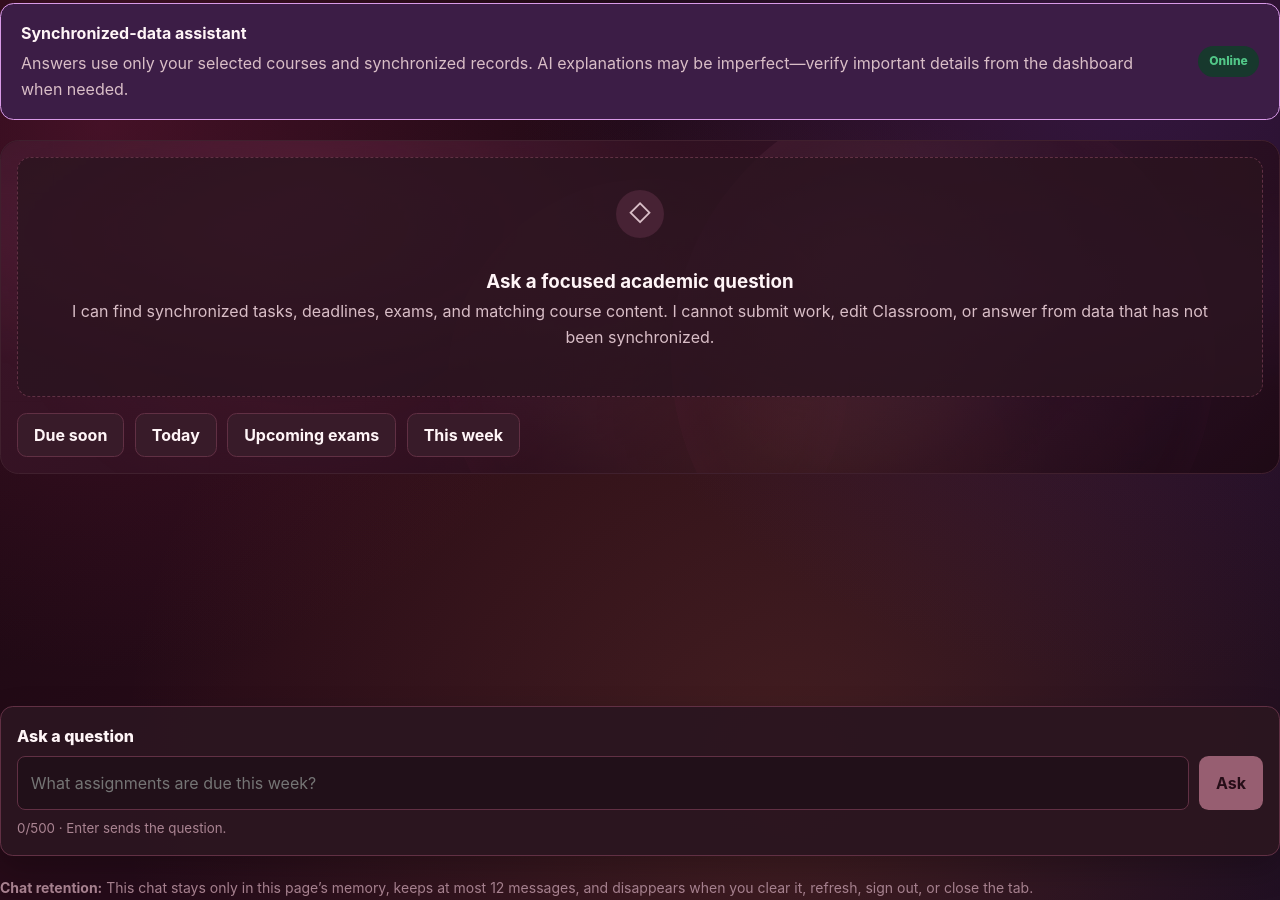
Test: F8 assistant experience › does not show a synchronization failure beneath a course clarification
(page scrolled)
Type "Is the lab final complete?" into the field labelled "Ask a question". click: x=603, y=783
box: [17,756,1189,810]
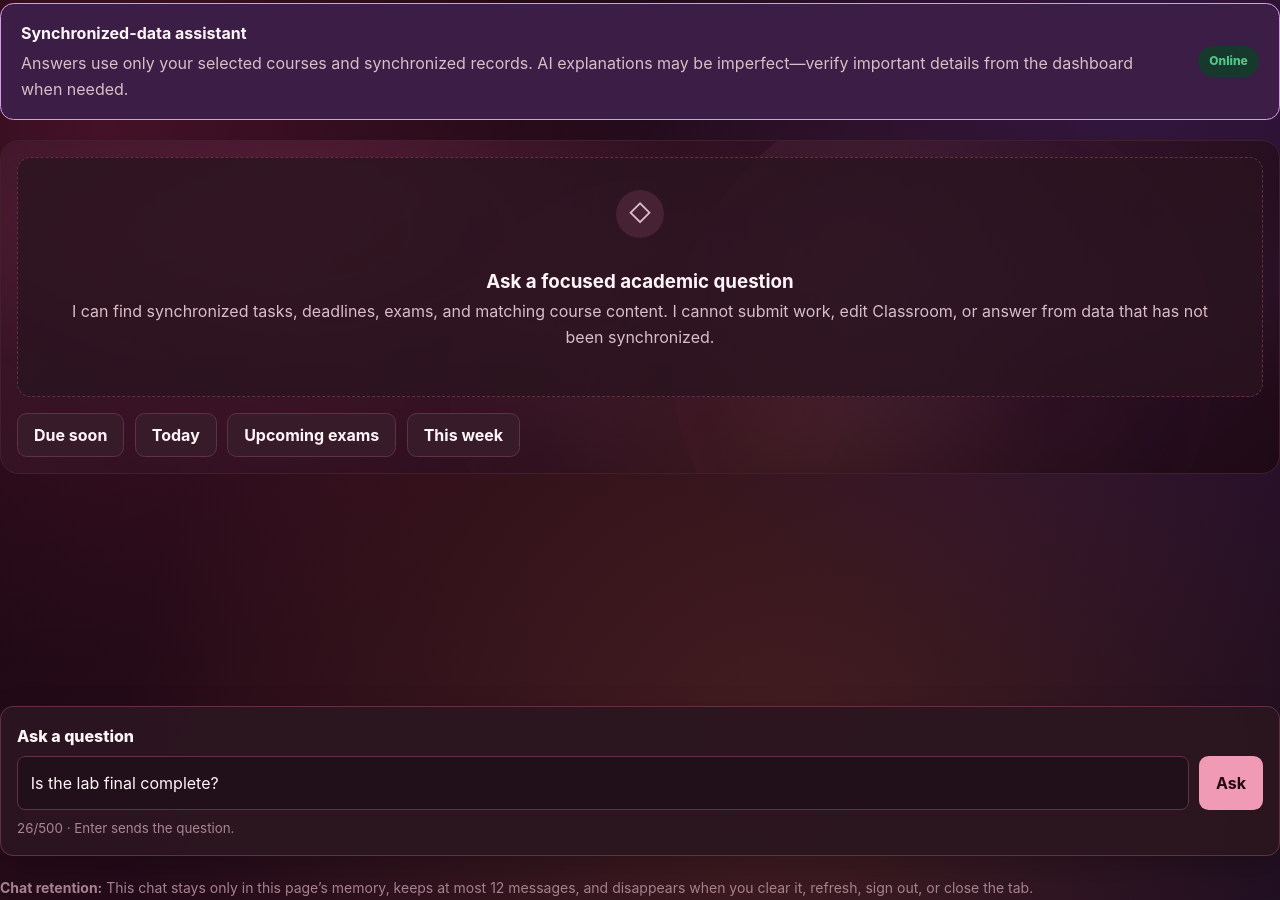
Click the button "Ask". click: x=1231, y=783
box: [1199,756,1263,810]
(page scrolled)
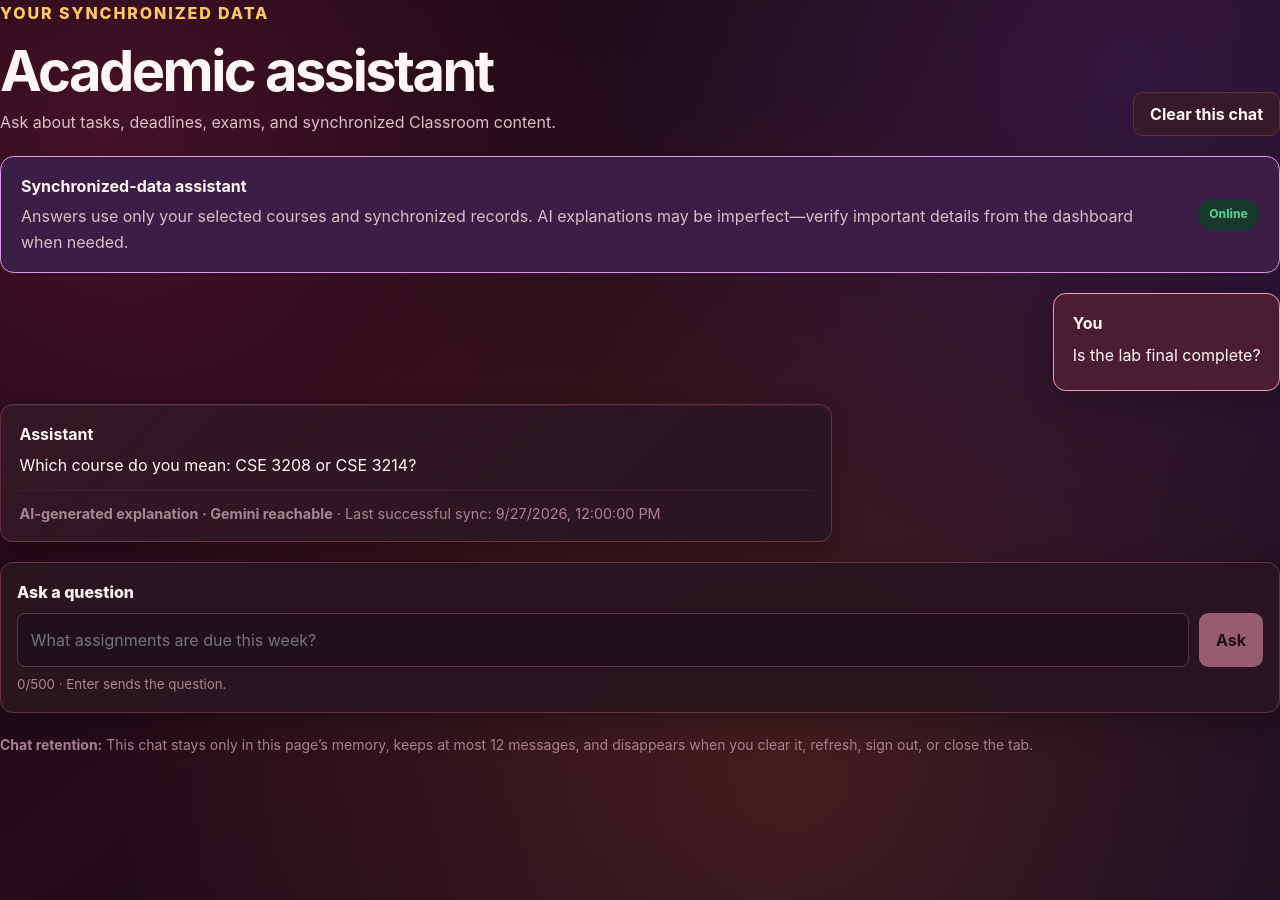
Expected: the text "Which course do you mean: CSE 3208 or CSE 3214?" is shown, [19,455,416,475]
